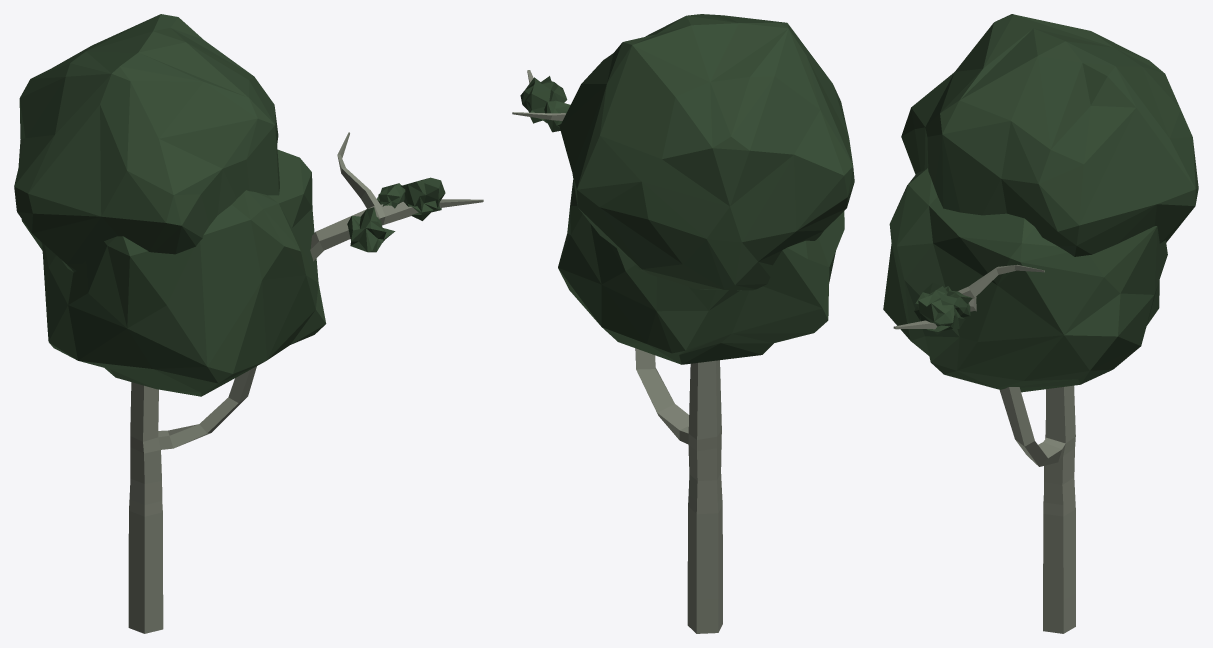
The model's file is Tree.fbx.
The picture shows the model from 3 angles, left to right: view 1: azimuth 30°, elevation 25°; view 2: azimuth 150°, elevation 25°; view 3: azimuth 270°, elevation 25°; orthographic projection. The views are drawn at different scales.
Visible parts, largest first — view 1: Leaves, Tree; view 2: Leaves, Tree; view 3: Leaves, Tree.
Part boxes in pixels (box(x1,y1,x2,y2)): Leaves: box(14, 14, 445, 396); Tree: box(128, 132, 483, 633); Leaves: box(520, 14, 854, 364); Tree: box(512, 70, 722, 633); Leaves: box(883, 14, 1198, 392); Tree: box(893, 264, 1075, 633).
Size of the model in its own units: 676 by 975 by 472.
